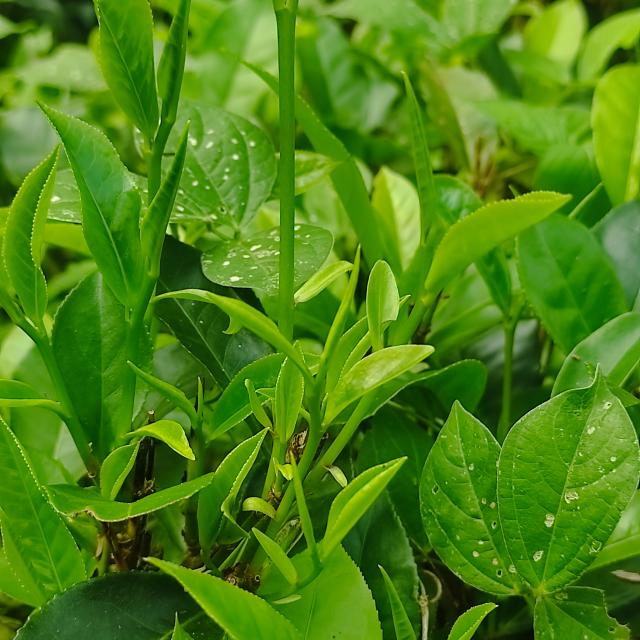unopened_leaf: (181, 284, 322, 392), (133, 121, 203, 287), (397, 62, 442, 285), (308, 238, 372, 385), (124, 352, 208, 428), (283, 446, 328, 575), (561, 175, 614, 225)
